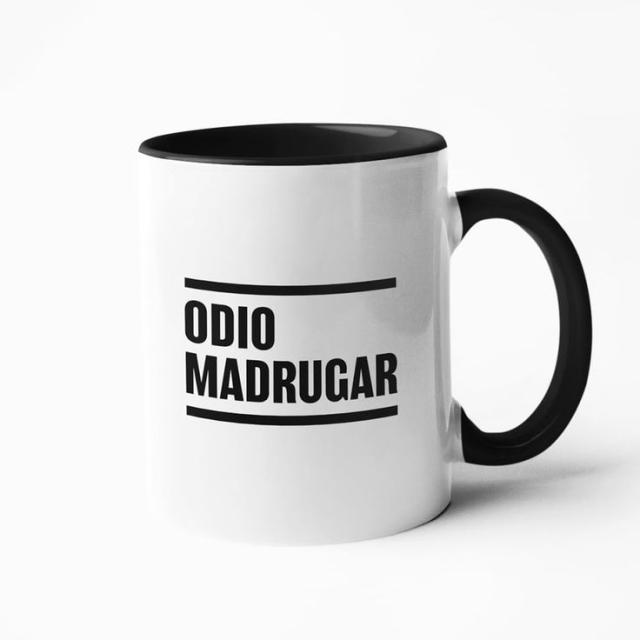glass cup: (138, 123, 592, 547)
